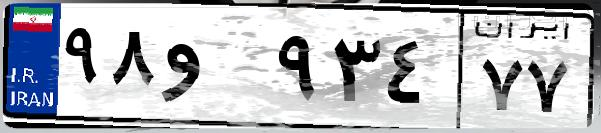3: (330, 28, 385, 110)
4: (385, 28, 445, 110)
7: (475, 38, 525, 113), (525, 38, 570, 115)
8: (110, 28, 158, 98)
9: (270, 28, 330, 110), (57, 26, 110, 100)
و: (158, 20, 270, 120)
